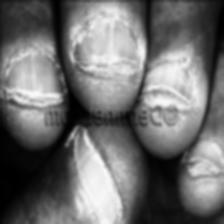Toxin: (64, 138, 128, 224), (69, 20, 144, 74), (1, 51, 60, 102), (144, 54, 198, 100), (183, 136, 224, 179)
